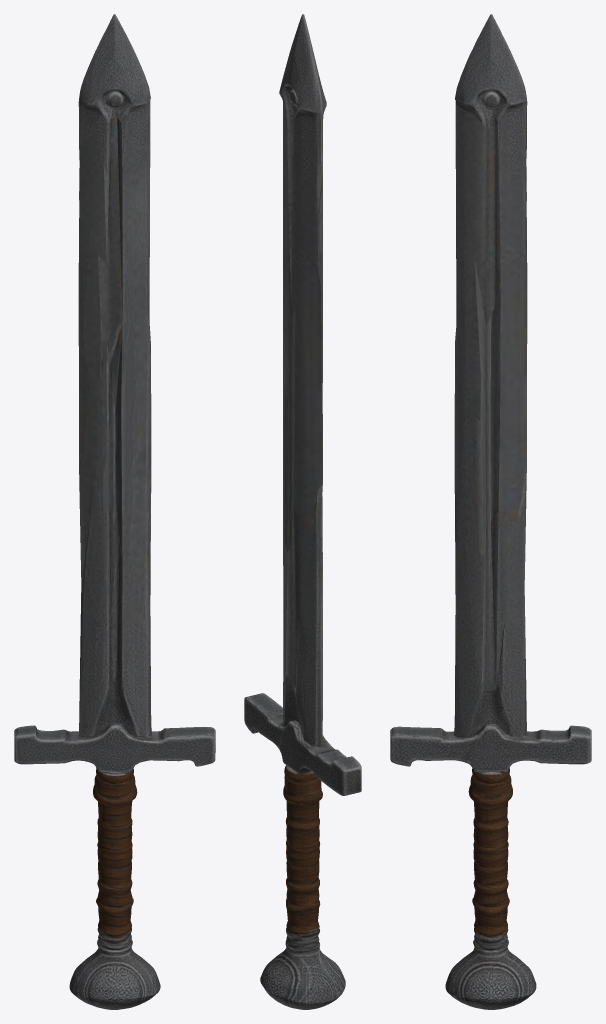
File: iron_longsword.fbx
The picture shows the model from 3 angles, left to right: view 1: azimuth 90°, elevation 25°; view 2: azimuth 210°, elevation 25°; view 3: azimuth 270°, elevation 25°; orthographic projection.
Visible parts, largest first — view 1: iron_longsword; view 2: iron_longsword; view 3: iron_longsword.
Part boxes in pixels (x1,y1,x2,y2): iron_longsword: (14,14,215,1009); iron_longsword: (244,14,361,1009); iron_longsword: (390,14,591,1009).
Bounding box in the file's own units: 0.332 × 4.4 × 0.8105.
Materials: 1 (1 with a texture image).
